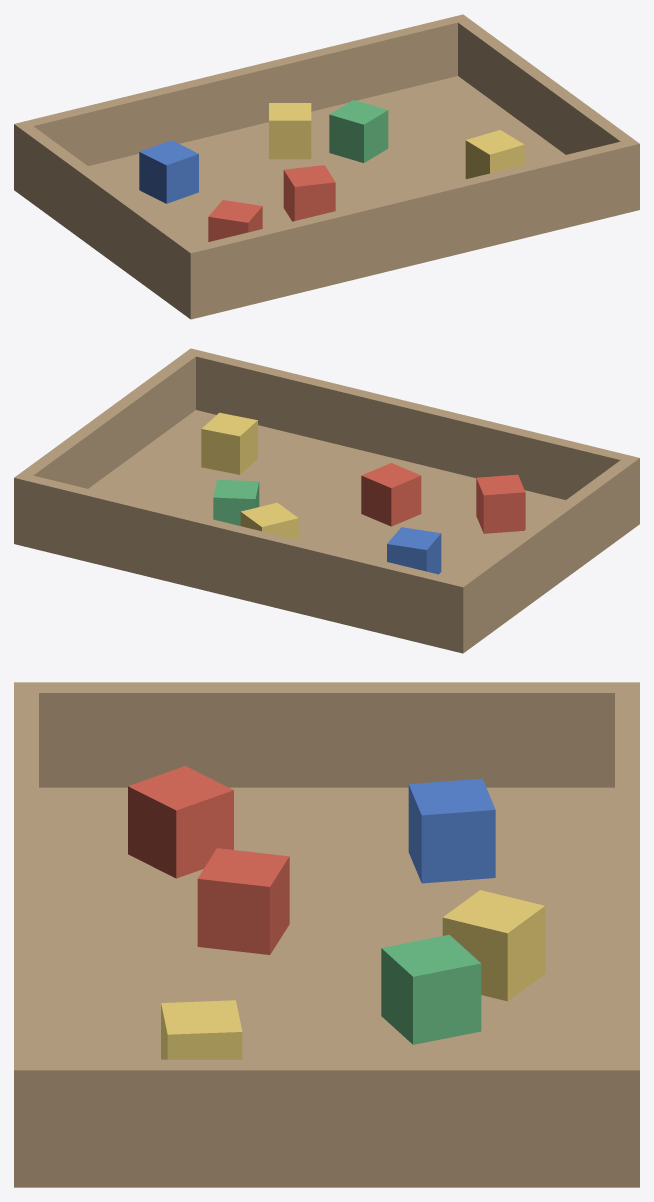
The model's file is prop-tessera-tray.fbx.
3 renders of one model, top to bottom at view 1: azimuth 30°, elevation 25°; view 2: azimuth 150°, elevation 25°; view 3: azimuth 270°, elevation 25°, orthographic. The views are drawn at different scales.
Parts seen in each view (by area): view 1: prop-tessera-tray; view 2: prop-tessera-tray; view 3: prop-tessera-tray.
Boxes of the visible parts, x1,y1,x2,y2 form: prop-tessera-tray: [14, 14, 639, 319]; prop-tessera-tray: [14, 348, 639, 653]; prop-tessera-tray: [14, 682, 639, 1187].
Size of the model in its own units: 22 by 3.1 by 15.
